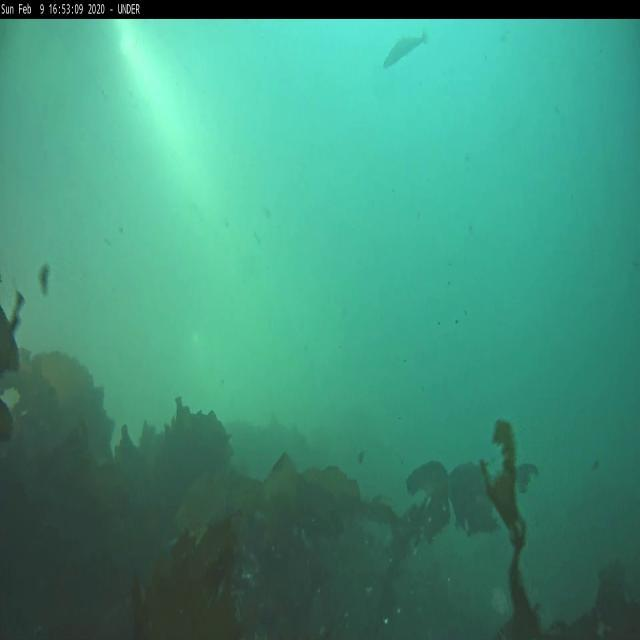fish: (382, 31, 427, 66)
